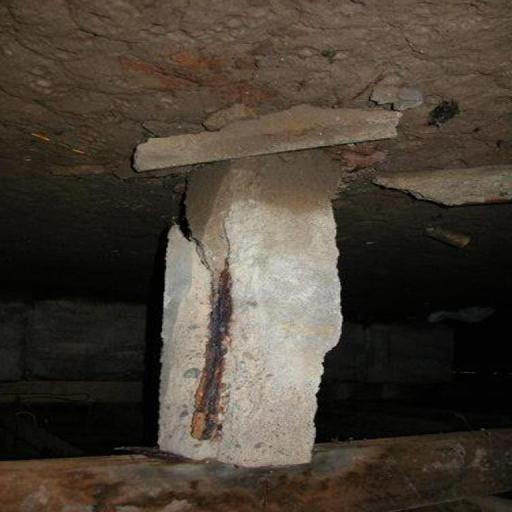spalling: (174, 220, 266, 462)
